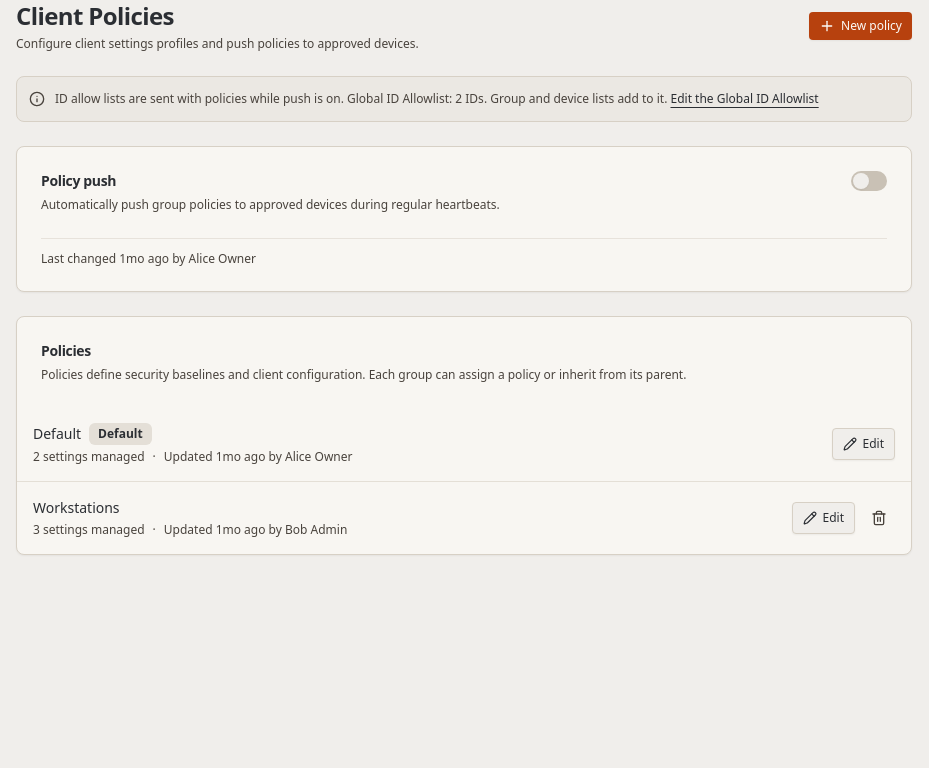
Test: PoliciesView › explains the permission preset in the policy editor
Click the button "New policy".
click(861, 26)  # box [809,12,912,40]
(page scrolled)
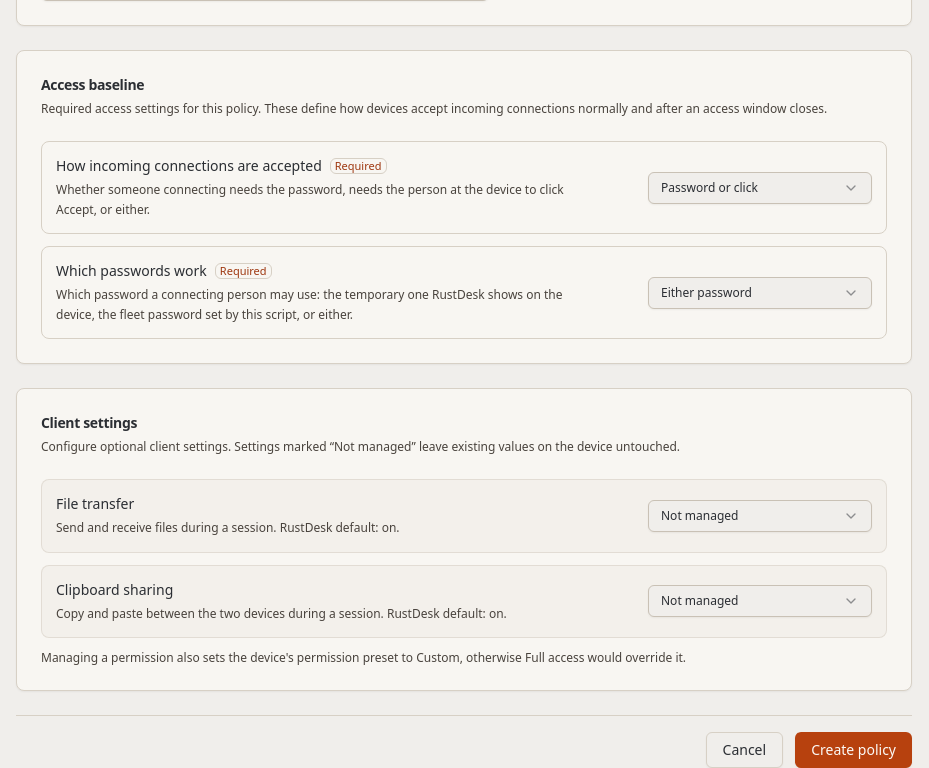
Now the text "Managing a permission also sets the device's permission preset to Custom, otherwise Full access would override it." is shown, box [41,649,686,666]
